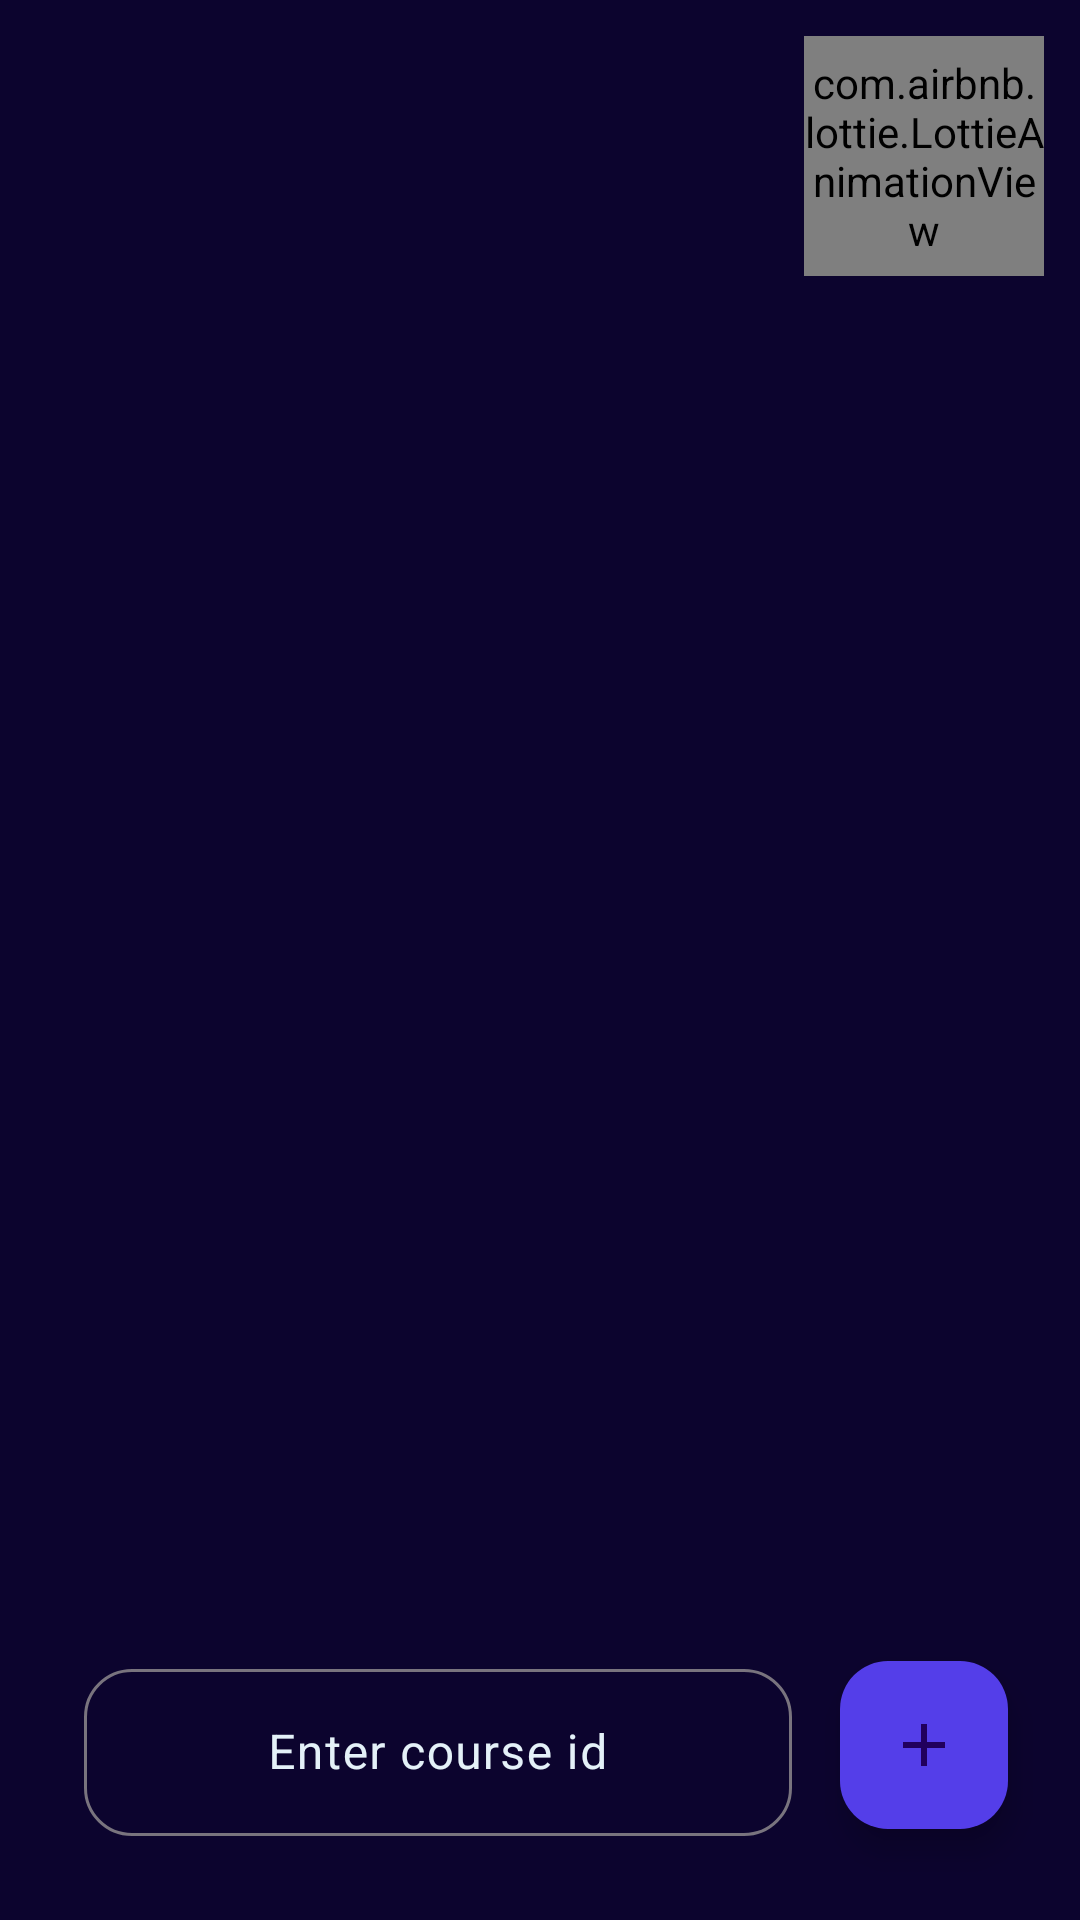

Named icons in this screenshot (1080px x 1920px) and their bounding boxes, (x1, y1, x2, y2):
Add Material: (840, 1661, 1008, 1829)
